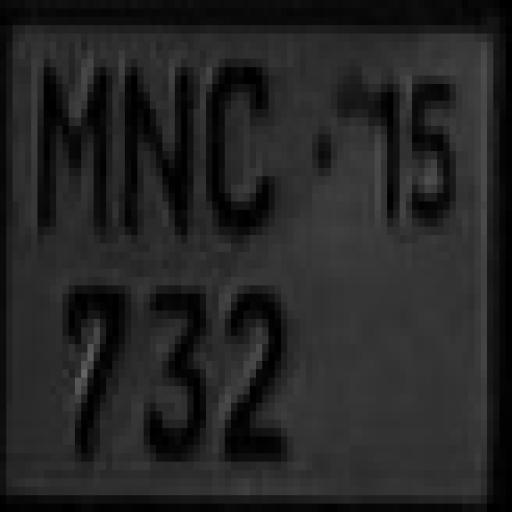2: (221, 290, 320, 484)
3: (145, 268, 210, 481)
7: (66, 267, 132, 474)
C: (204, 59, 281, 240)
M: (33, 62, 107, 242)
N: (111, 52, 200, 240)
